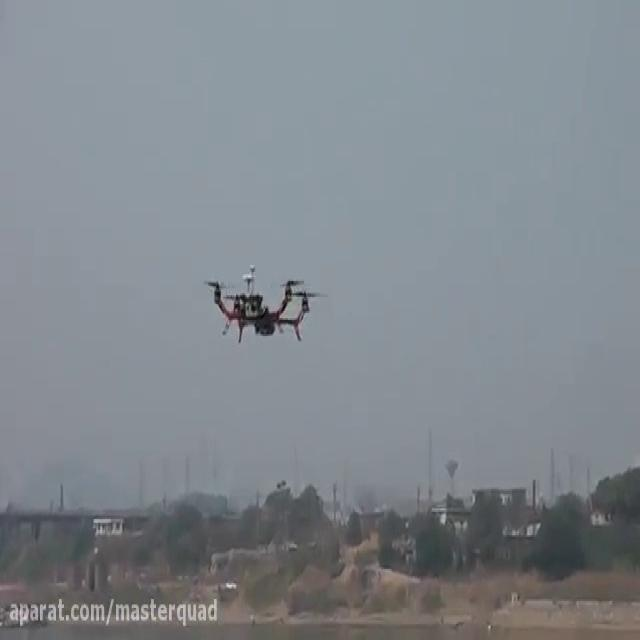drone: (198, 256, 331, 348)
